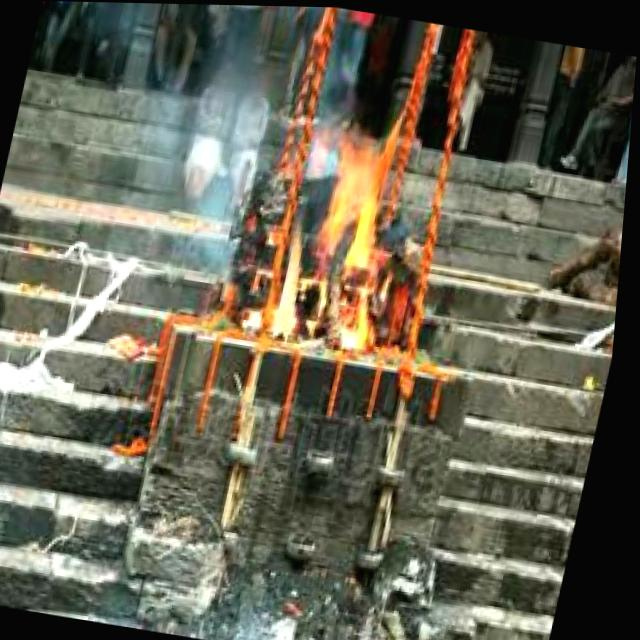helmet: (235, 96, 418, 349)
